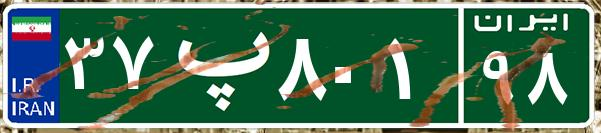0: (330, 28, 385, 110)
1: (385, 28, 445, 110)
3: (57, 26, 110, 107)
7: (110, 28, 158, 105)
8: (273, 28, 330, 110), (525, 38, 570, 115)
9: (475, 38, 525, 113)
پ: (158, 15, 273, 115)
